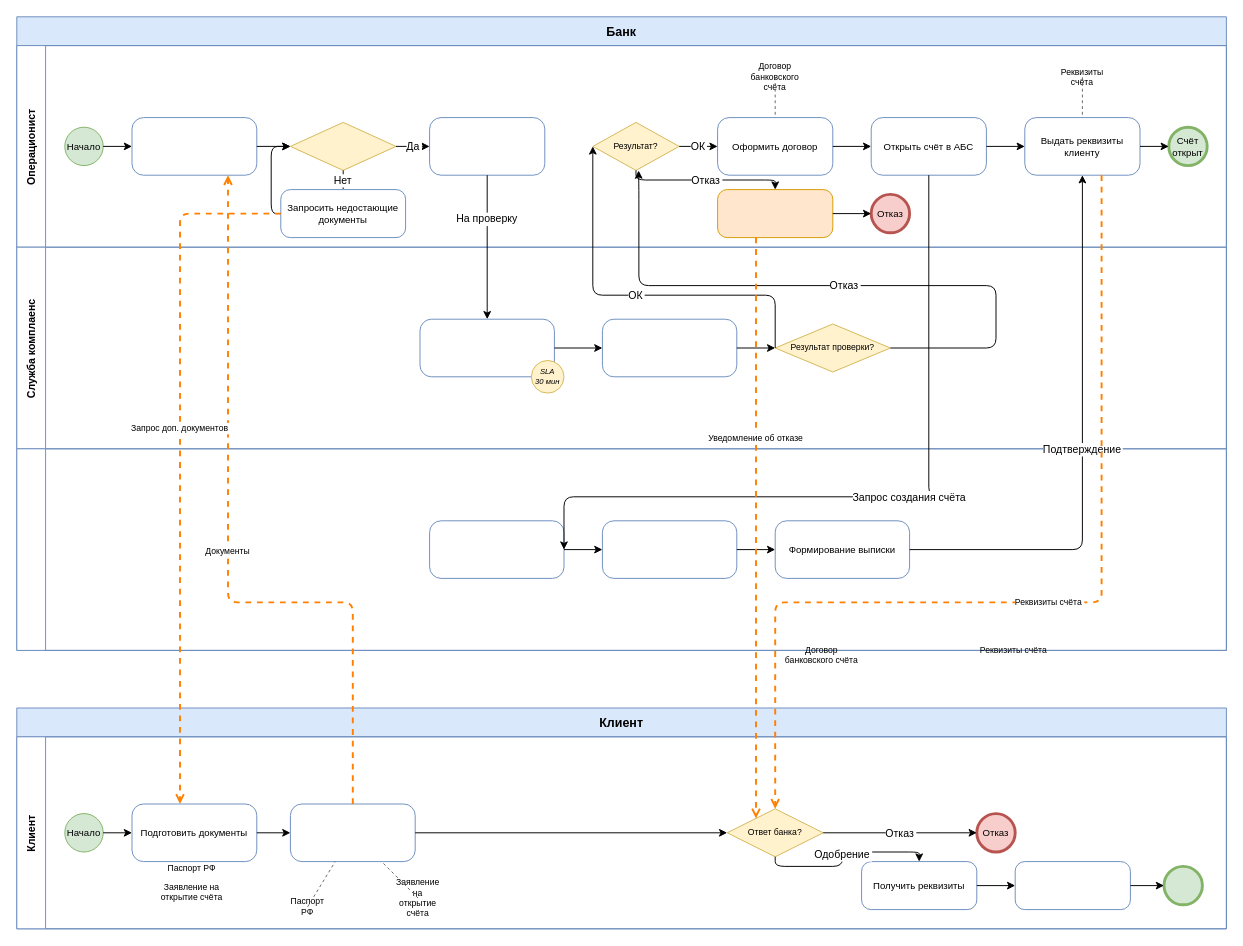
This 1243x946 diagram has some shape labels left out. The shapes that lost their labels are listed below. From the top down, each one's box as (x1, y1, x2, y2) in pixels, then its label:
(131, 117, 257, 175): Принять документы клиента
(289, 121, 396, 170): Документы полны?
(429, 117, 545, 175): Проверить документы
(717, 189, 833, 238): Уведомить клиента об отказе
(419, 318, 554, 377): Проверка по базам ПОД/ФТ
(601, 318, 737, 377): Проверка по спискам Росфинмониторинга
(429, 520, 564, 578): Генерация номера счёта
(16, 448, 1226, 650): IT-система (АБС)
(601, 520, 737, 578): Регистрация в системе
(289, 803, 415, 862): Предоставить документы в банк
(1014, 861, 1130, 910): Подписать договор
(1162, 864, 1203, 906): Счёт получен
